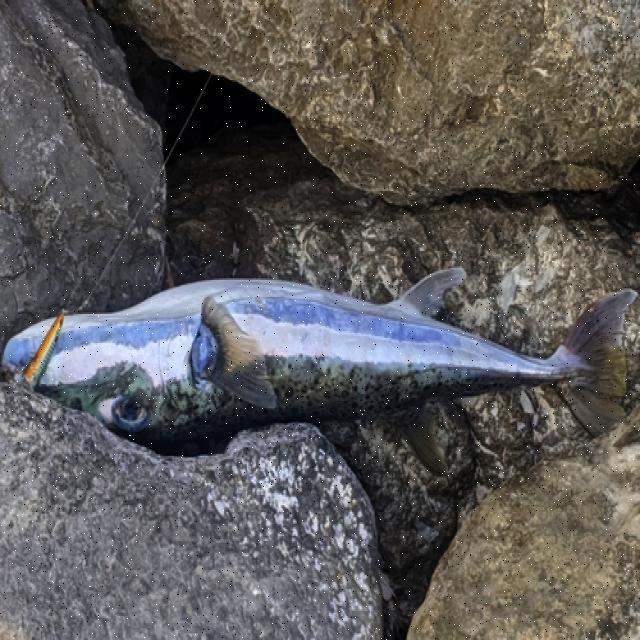Balik: (38, 268, 636, 474)
